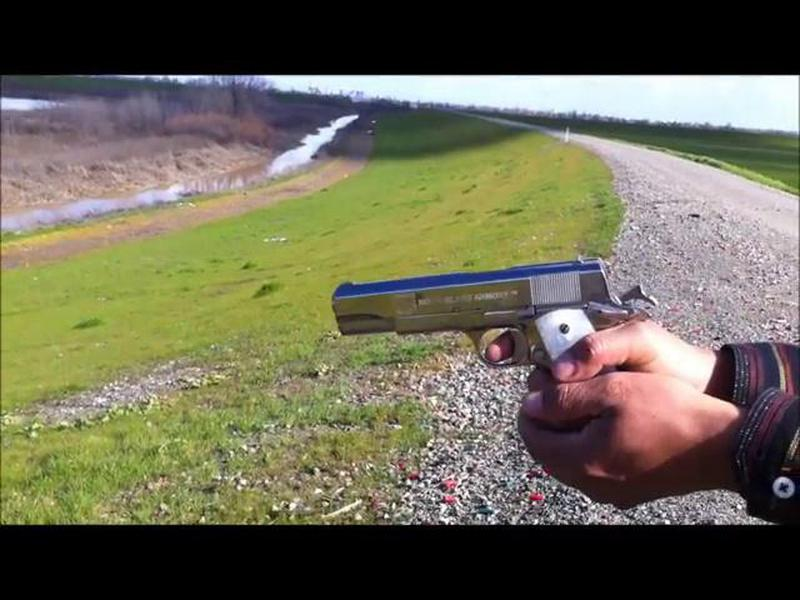Pistola: (312, 230, 661, 373)
